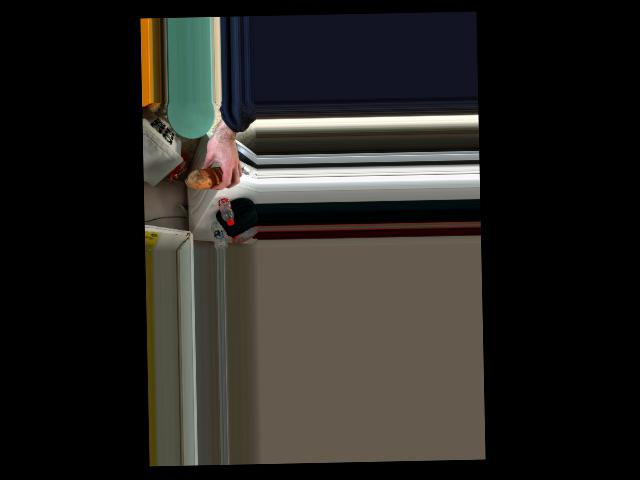sweet_potato: (196, 155, 232, 185)
